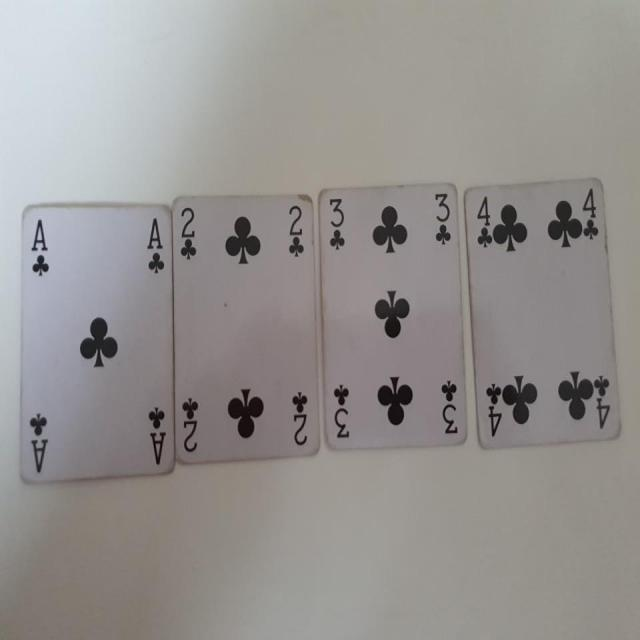2 Trefoils: (172, 192, 321, 463)
3 Trefoils: (317, 180, 470, 450)
4 Trefoils: (462, 173, 623, 448)
A Trefoils: (18, 201, 175, 484)
